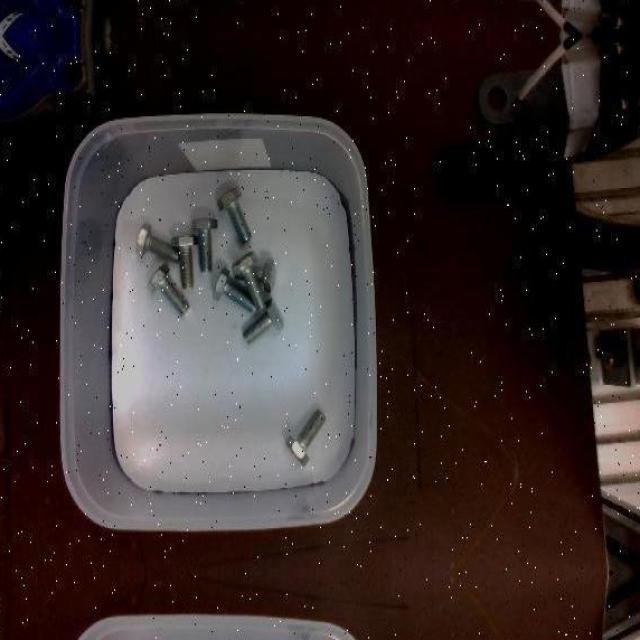screw: (286, 408, 327, 465), (147, 263, 190, 317), (217, 186, 253, 244), (232, 250, 266, 310), (243, 297, 285, 344), (135, 220, 179, 262), (171, 234, 198, 289), (192, 217, 218, 273)
